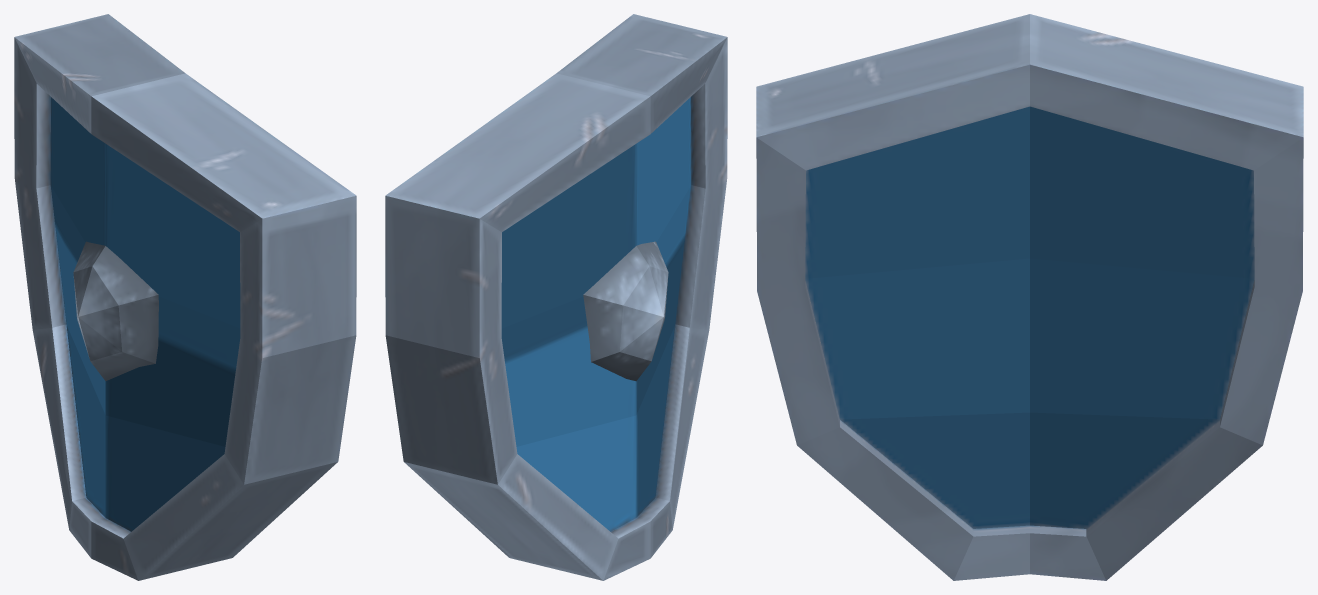
Rendered from shield_041ee3f9.glb.
The picture shows the model from 3 angles, left to right: view 1: azimuth 30°, elevation 25°; view 2: azimuth 150°, elevation 25°; view 3: azimuth 270°, elevation 25°; orthographic projection. The views are drawn at different scales.
Visible parts, largest first — view 1: Escudo_0; view 2: Escudo_0; view 3: Escudo_0.
Boxes of the visible parts, box(x1,y1,x2,y2) form: Escudo_0: box(14, 14, 356, 580); Escudo_0: box(385, 14, 727, 580); Escudo_0: box(756, 14, 1303, 580).
Bounding box in the file's own units: 0.2288 × 0.6548 × 0.6372.
Materials: 1 (1 with a texture image).
